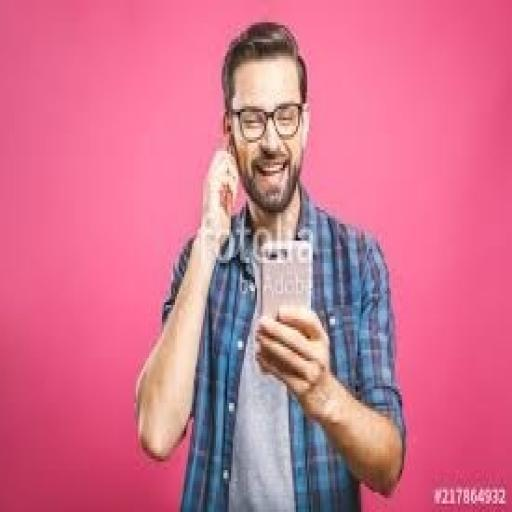listening_to_music: (132, 20, 408, 509)
